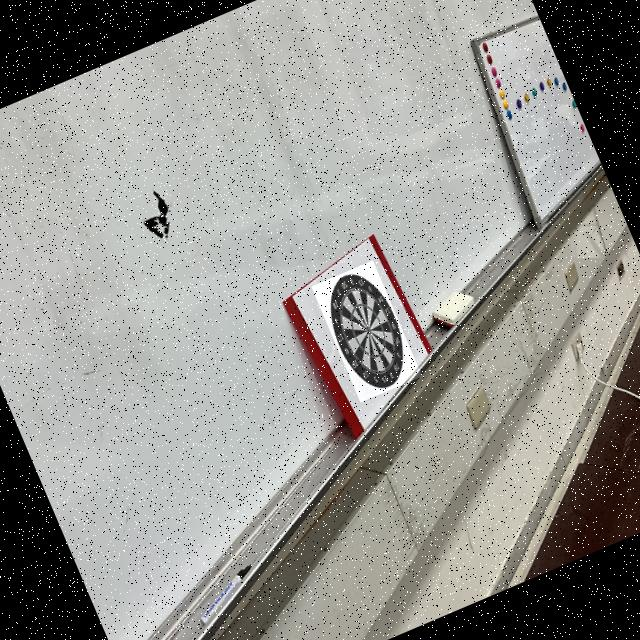archery-targets: (311, 259, 422, 402)
